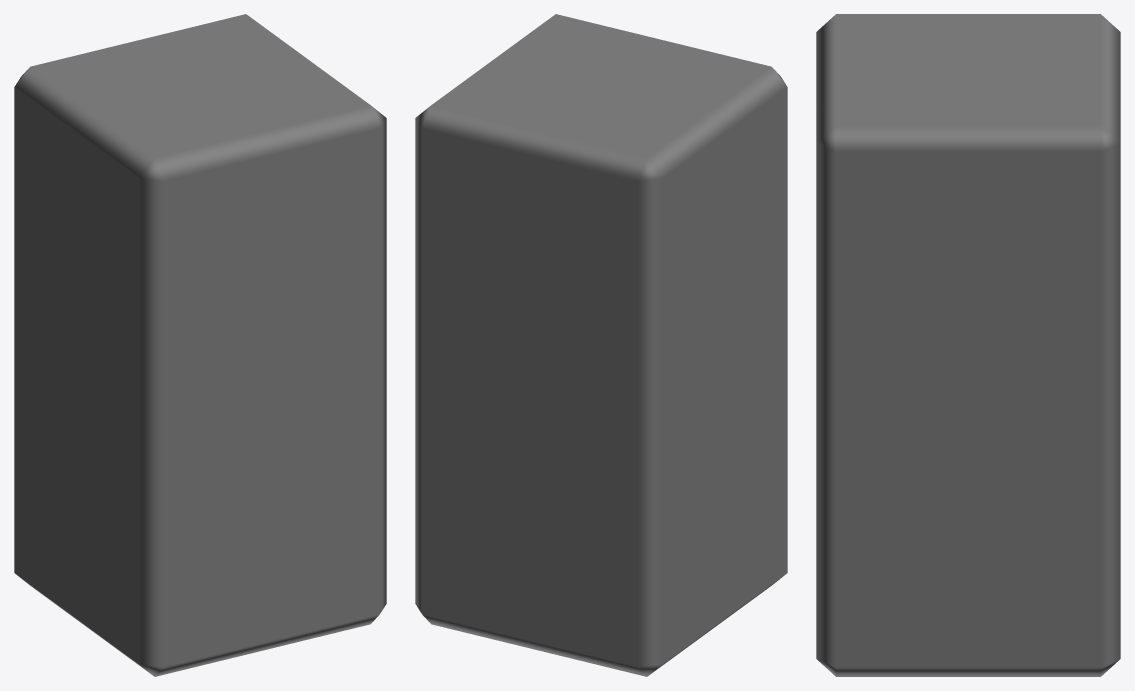
The model's file is LimbUnit.obj.
The picture shows the model from 3 angles, left to right: view 1: azimuth 30°, elevation 25°; view 2: azimuth 150°, elevation 25°; view 3: azimuth 270°, elevation 25°; orthographic projection. The views are drawn at different scales.
Visible parts, largest first — view 1: Rig1; view 2: Rig1; view 3: Rig1.
Boxes of the visible parts, x1=… form: Rig1: x1=14, y1=14, x2=386, y2=676; Rig1: x1=415, y1=14, x2=787, y2=676; Rig1: x1=816, y1=14, x2=1120, y2=676.
Bounding box in the file's own units: 1 × 2 × 1.
